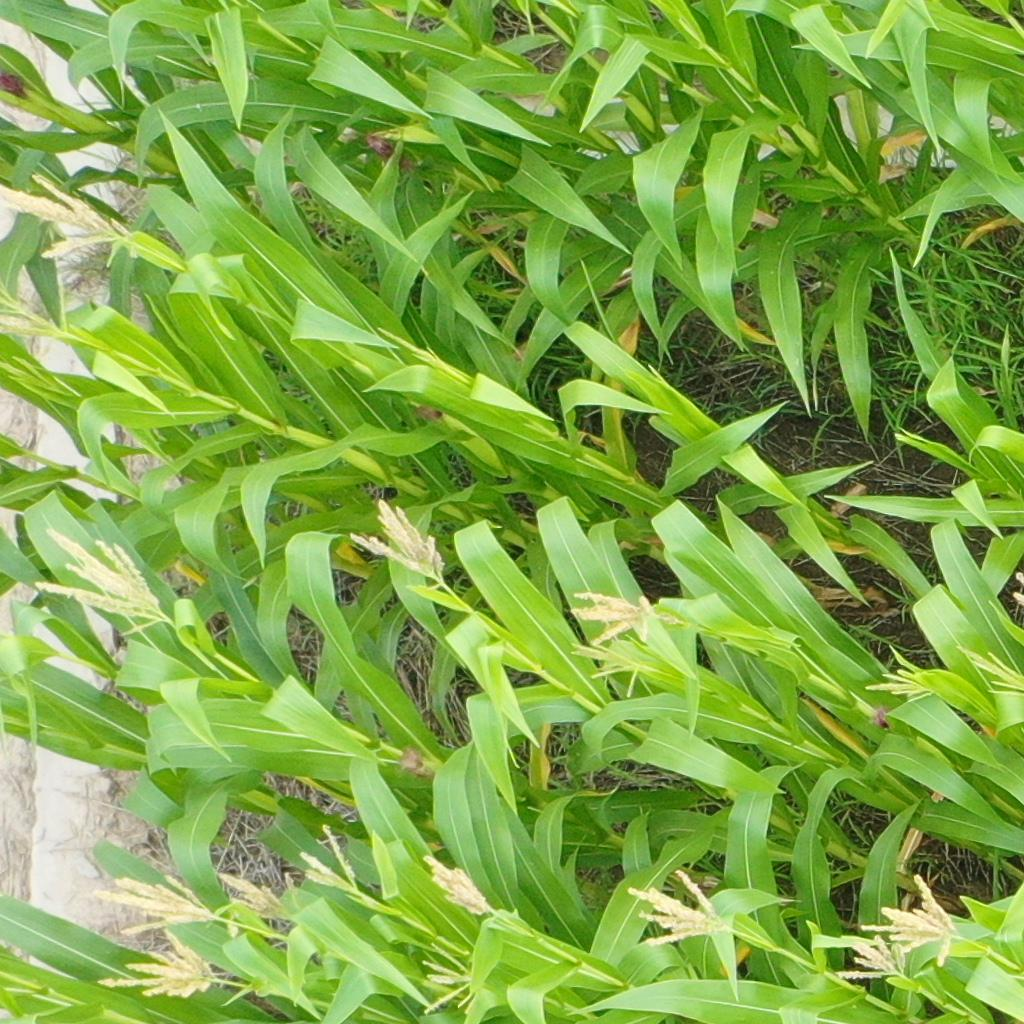Tassel: (35, 526, 178, 641), (1, 172, 140, 270), (346, 499, 452, 594), (859, 875, 959, 970), (94, 870, 225, 939), (618, 866, 724, 950), (95, 929, 217, 999), (567, 591, 678, 644), (297, 820, 362, 894), (423, 856, 497, 919), (416, 941, 479, 1015), (222, 869, 303, 923), (571, 642, 648, 697), (1, 280, 73, 337), (861, 656, 936, 708), (952, 643, 1024, 696), (835, 932, 913, 980), (1, 353, 62, 395)
